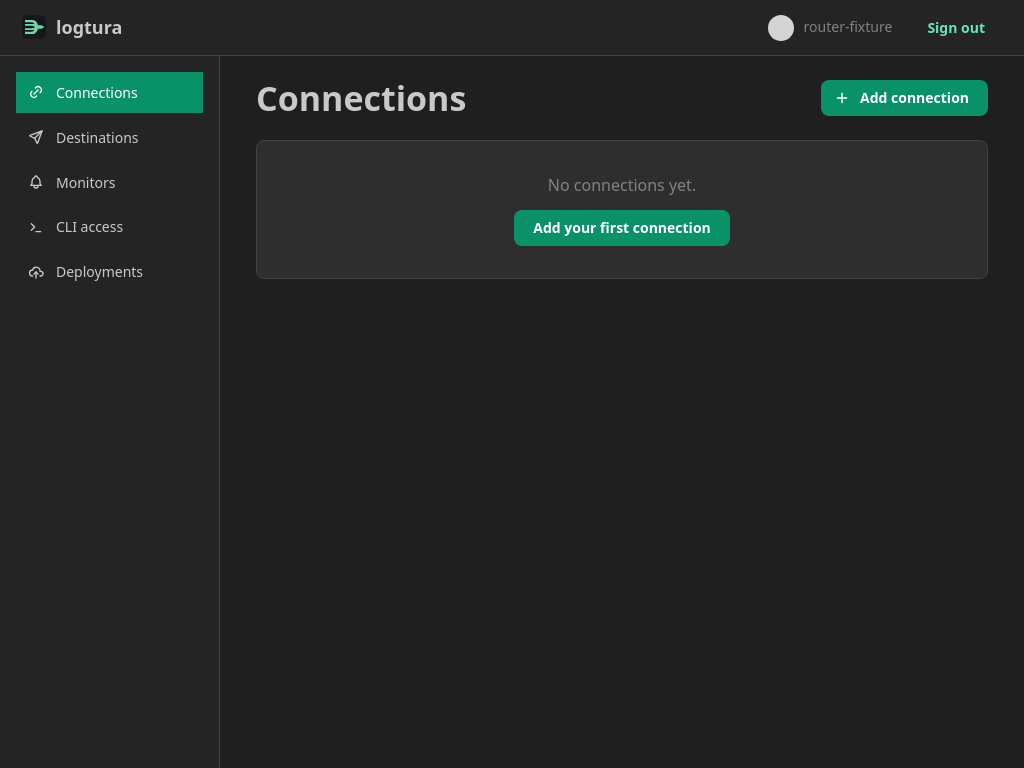
Scenario: navigates between the real account pages and updates active links
The image size is (1024, 768).
expect the link "Sign out" is shown: met, box top-left (908, 10), bottom-right (1004, 46)
Click the link "Destinations" at (83, 137), box top-left (28, 128), bottom-right (138, 147)
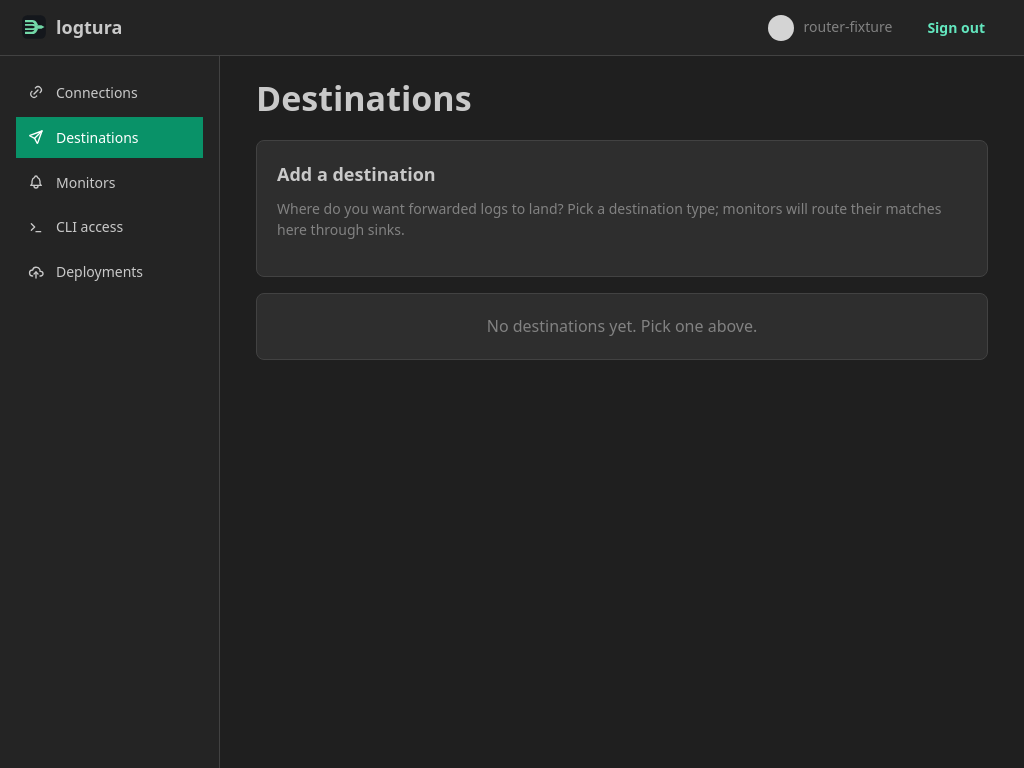
expect the heading "Destinations" is shown: met, box top-left (256, 76), bottom-right (472, 120)
Click the link "Monitors" at (72, 182), box top-left (28, 173), bottom-right (116, 192)
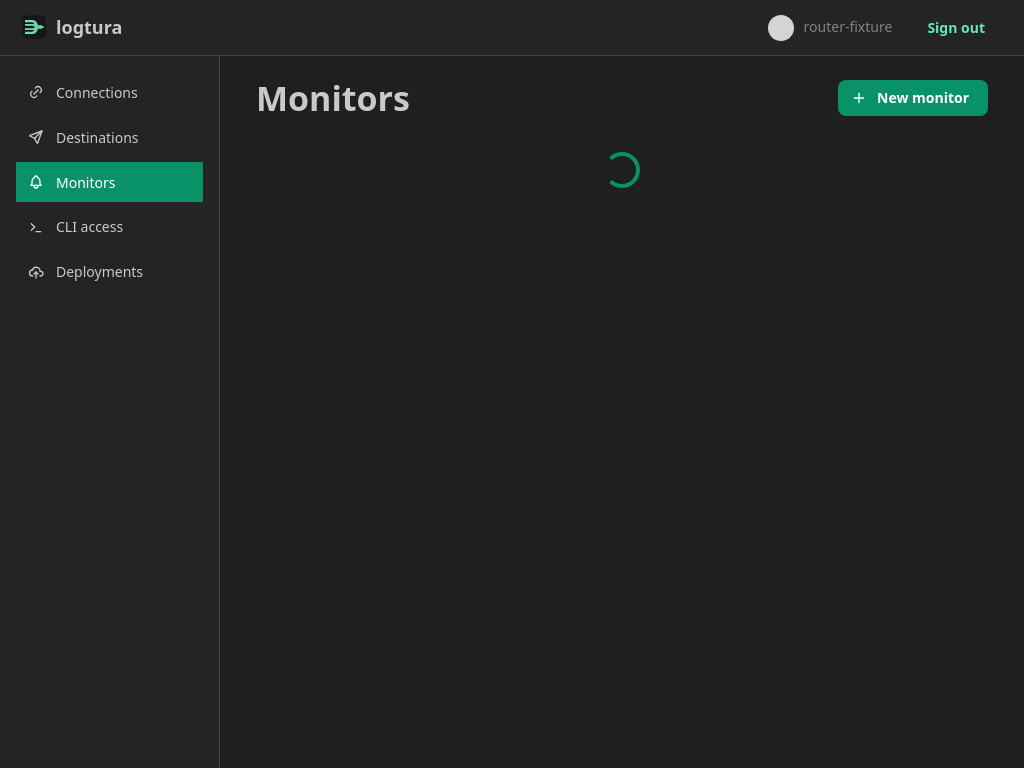
expect the heading "Monitors" is shown: met, box top-left (256, 76), bottom-right (410, 120)
Click the link "CLI access" at (76, 227), box top-left (28, 217), bottom-right (123, 236)
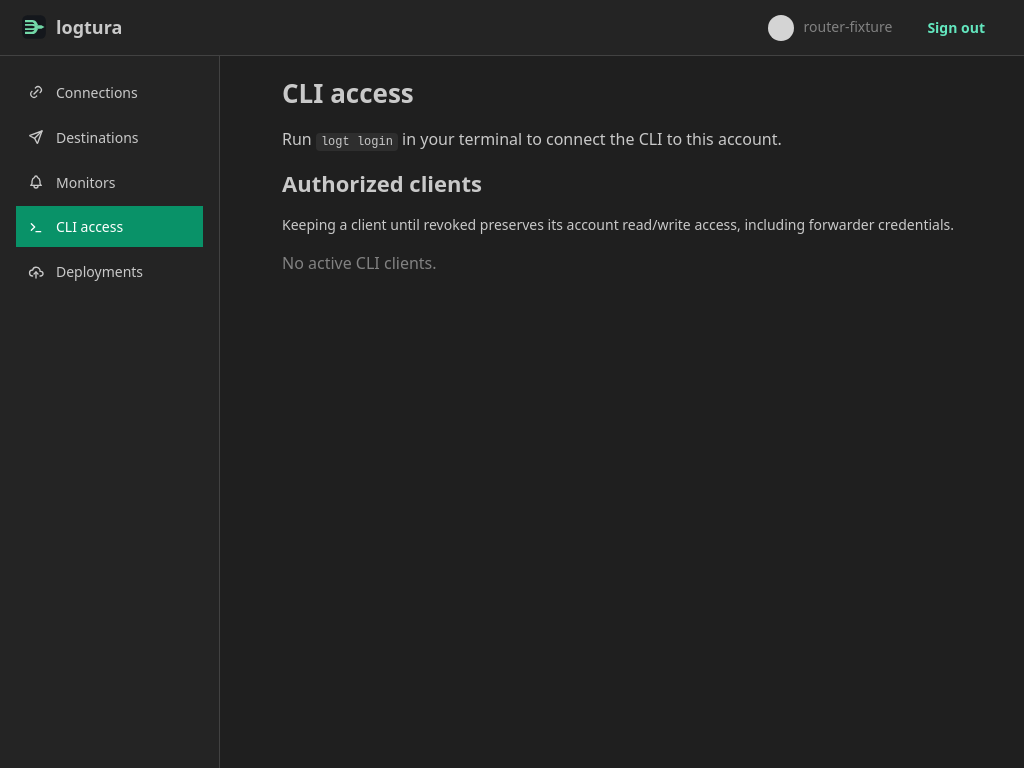
expect the text "No active CLI clients." is shown: met, box top-left (282, 252), bottom-right (436, 274)
